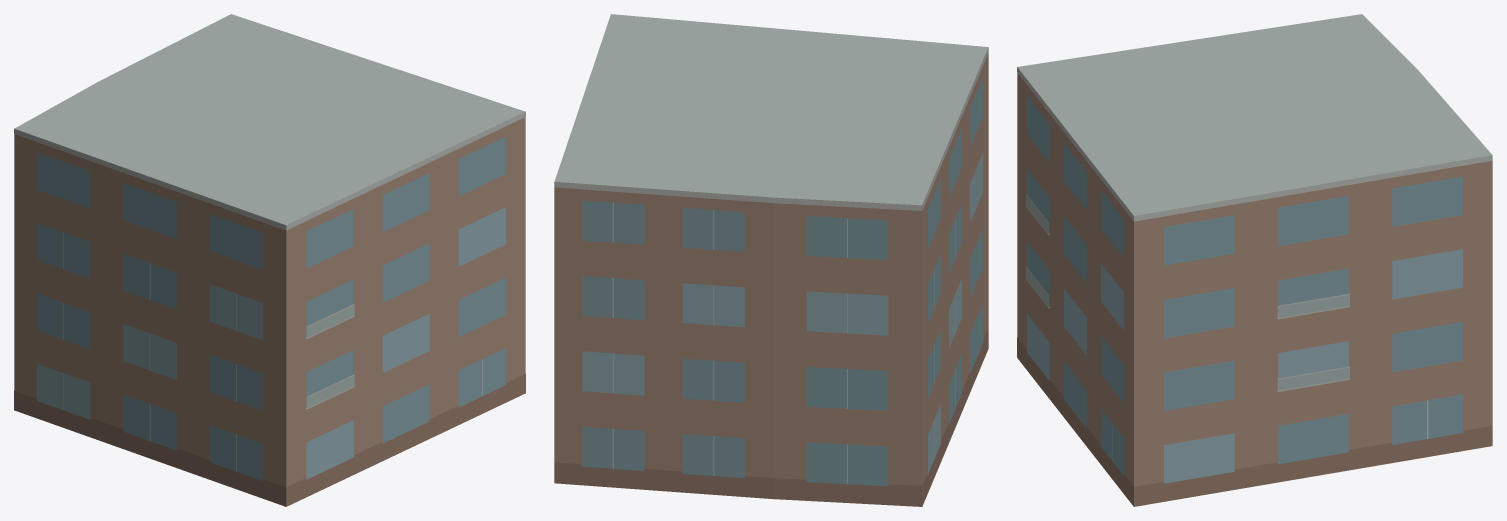
Rendered from survey-upis-32580305.glb.
The picture shows the model from 3 angles, left to right: view 1: azimuth 30°, elevation 25°; view 2: azimuth 150°, elevation 25°; view 3: azimuth 270°, elevation 25°; orthographic projection. The views are drawn at different scales.
Visible parts, largest first — view 1: survey-upis-32580305.tmp; view 2: survey-upis-32580305.tmp; view 3: survey-upis-32580305.tmp.
Boxes of the visible parts, box(x1,y1,x2,y2) form: survey-upis-32580305.tmp: box(14, 14, 525, 506); survey-upis-32580305.tmp: box(554, 14, 988, 506); survey-upis-32580305.tmp: box(1017, 14, 1492, 506).
Bounding box in the file's own units: 19.39 × 13 × 19.28.
